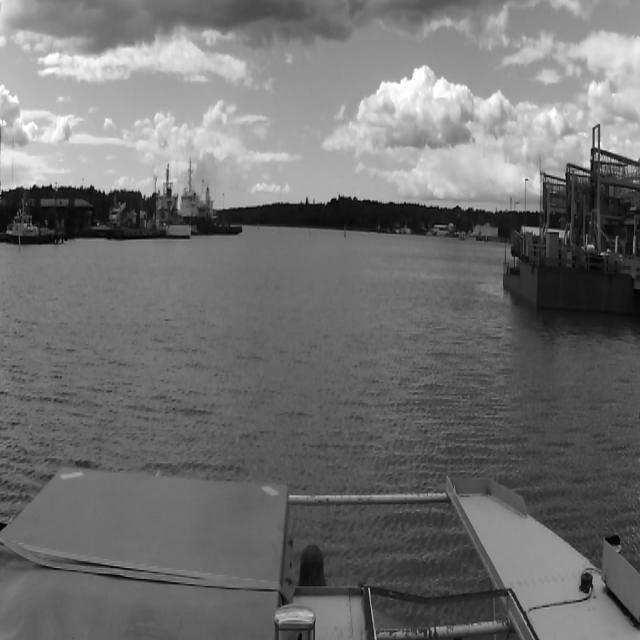buoy: (343, 227, 347, 241)
ship: (176, 157, 242, 234), (4, 210, 54, 243), (154, 194, 190, 234)
